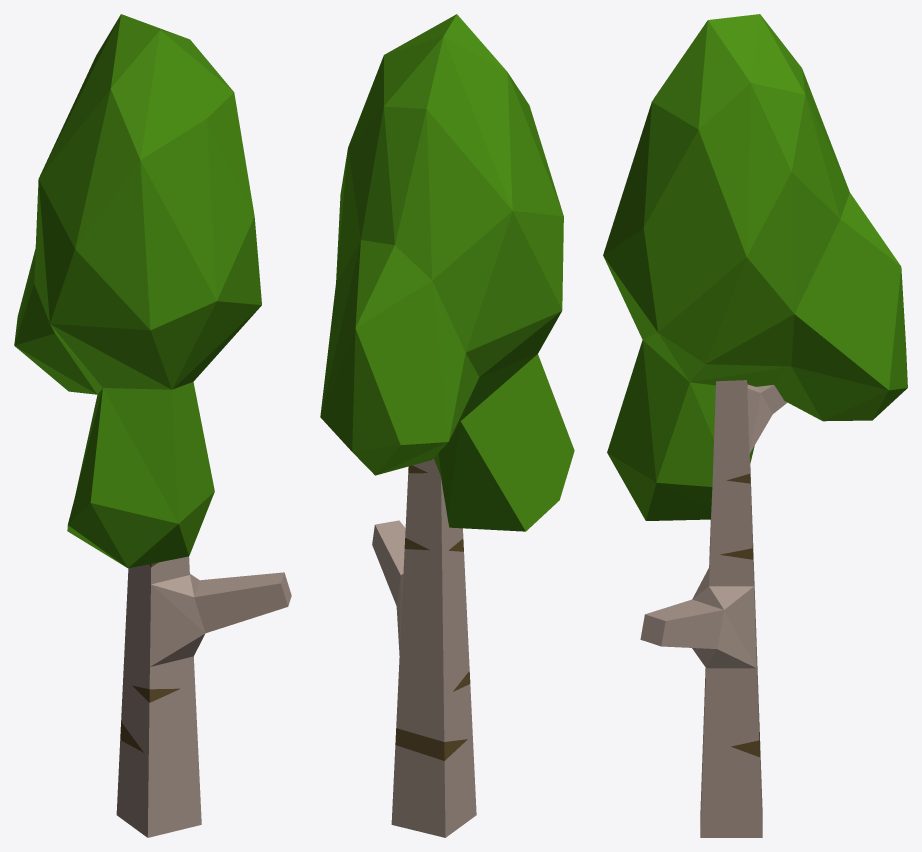
Rendered from SilverBirch1.fbx.
The picture shows the model from 3 angles, left to right: view 1: azimuth 30°, elevation 25°; view 2: azimuth 150°, elevation 25°; view 3: azimuth 270°, elevation 25°; orthographic projection.
Visible parts, largest first — view 1: SilverBirch1; view 2: SilverBirch1; view 3: SilverBirch1.
Part boxes in pixels (bbox=[...]): SilverBirch1: bbox=[14, 14, 291, 837]; SilverBirch1: bbox=[320, 14, 574, 837]; SilverBirch1: bbox=[603, 14, 907, 837].
Size of the model in its own units: 88.33 by 313 by 108.
